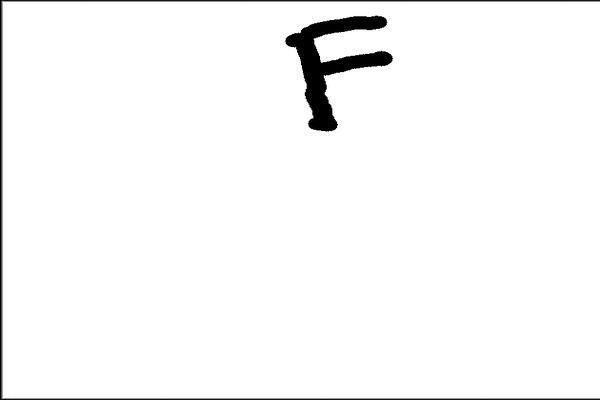F: (281, 9, 395, 135)
